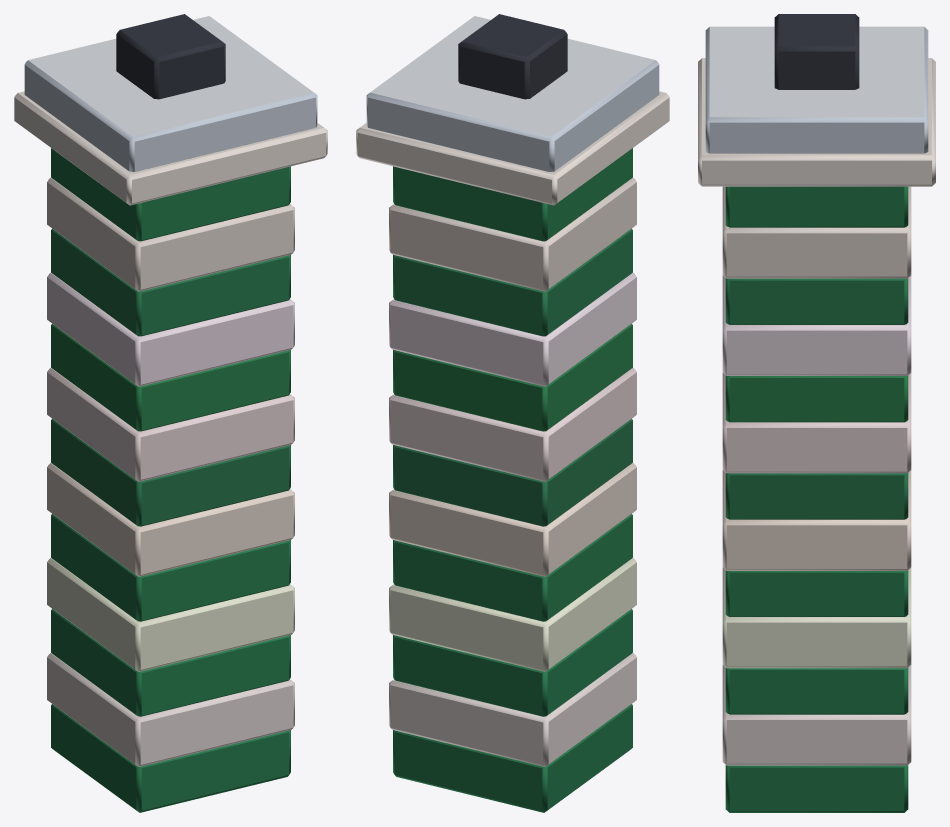
Rendered from CandyHouse_Lavender_Chimney.glb.
3 renders of one model, left to right at view 1: azimuth 30°, elevation 25°; view 2: azimuth 150°, elevation 25°; view 3: azimuth 270°, elevation 25°, orthographic. The views are drawn at different scales.
Visible parts, largest first — view 1: CandyHouse_Lavender_Chimney; view 2: CandyHouse_Lavender_Chimney; view 3: CandyHouse_Lavender_Chimney.
Boxes of the visible parts, <box> form: CandyHouse_Lavender_Chimney: <box>14,14,327,812</box>; CandyHouse_Lavender_Chimney: <box>356,14,669,812</box>; CandyHouse_Lavender_Chimney: <box>698,14,935,812</box>.
Bounding box in the file's own units: 3.1 × 10.72 × 3.1.
